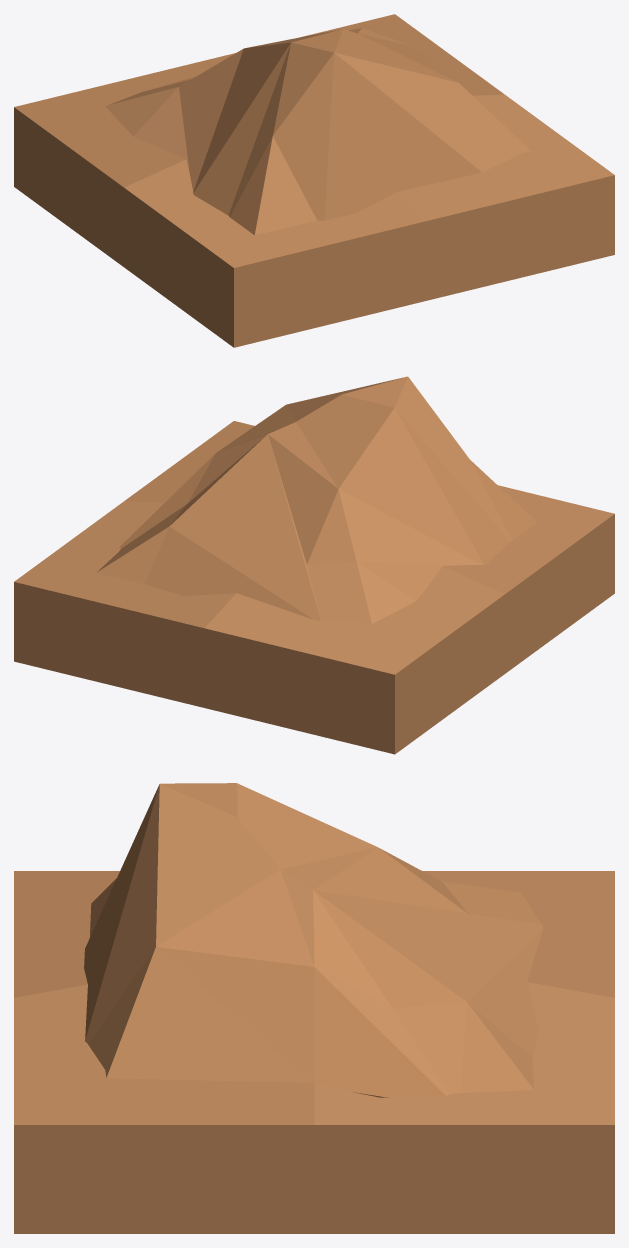
The model's file is SandPile.fbx.
The picture shows the model from 3 angles, top to bottom: view 1: azimuth 30°, elevation 25°; view 2: azimuth 150°, elevation 25°; view 3: azimuth 270°, elevation 25°; orthographic projection. The views are drawn at different scales.
Parts seen in each view (by area): view 1: Cube, Plane; view 2: Cube, Plane; view 3: Cube, Plane.
Boxes of the visible parts, box(x1,y1,x2,y2) form: Cube: box(14, 14, 614, 347); Plane: box(105, 28, 531, 235); Cube: box(14, 421, 614, 754); Plane: box(96, 376, 537, 623); Cube: box(14, 871, 614, 1233); Plane: box(84, 783, 542, 1097).
Bounding box in the file's own units: 500 × 274 × 500.
